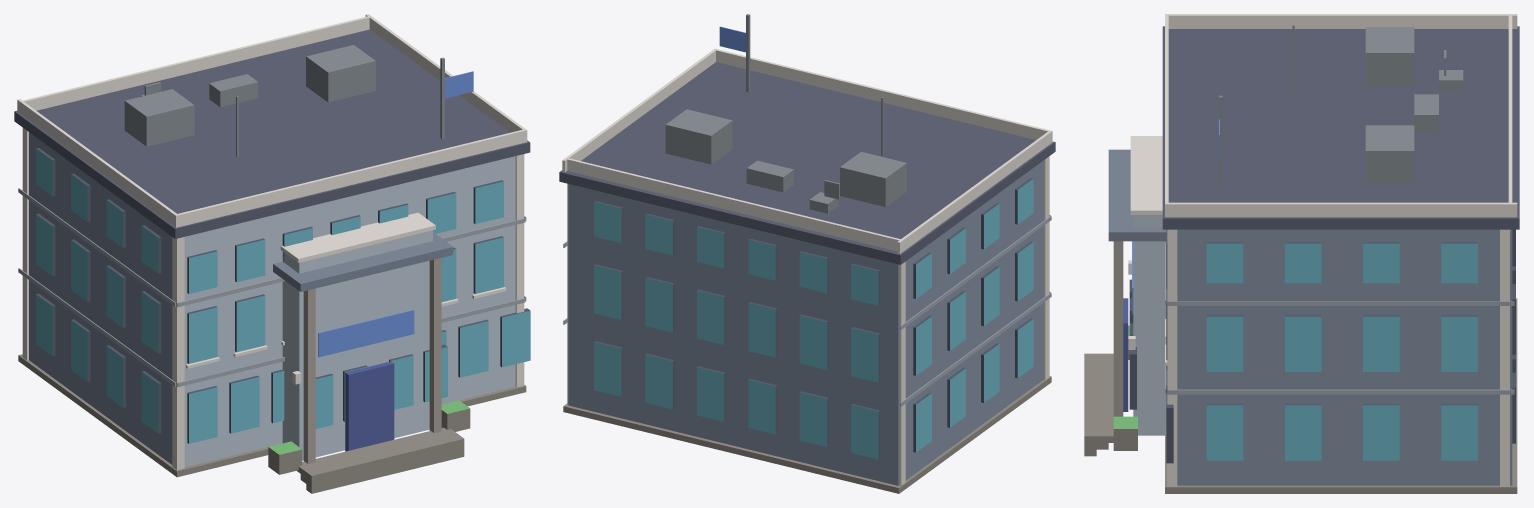
Rendered from Institute.fbx.
3 views of the same model, side by side, from view 1: azimuth 30°, elevation 25°; view 2: azimuth 150°, elevation 25°; view 3: azimuth 270°, elevation 25° (orthographic). The views are drawn at different scales.
Parts seen in each view (by area): view 1: Institute; view 2: Institute; view 3: Institute.
Part boxes in pixels (x1,y1,x2,y2): Institute: (14, 14, 530, 493); Institute: (559, 14, 1055, 493); Institute: (1084, 14, 1519, 493).
Bounding box in the file's own units: 1870 × 1720 × 1780.
